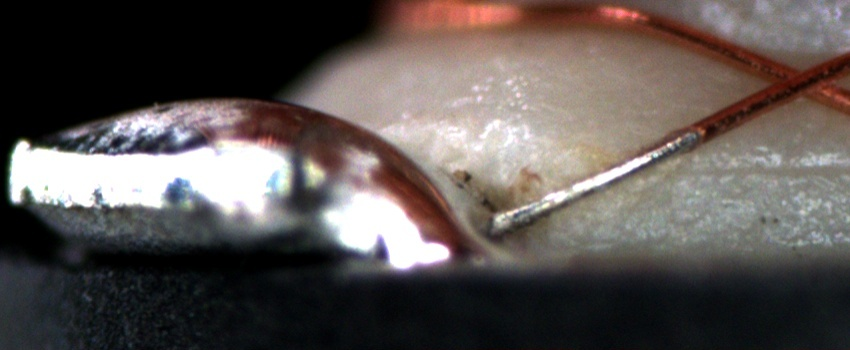CL: (751, 50, 841, 106)
DL: (658, 139, 850, 202)
TS: (489, 128, 701, 232)
